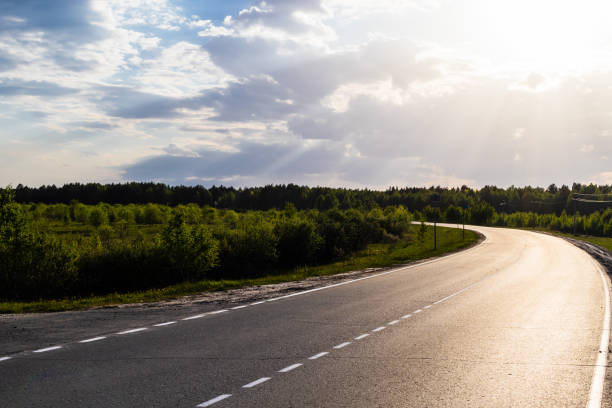leftTrun: (436, 212, 611, 290)
